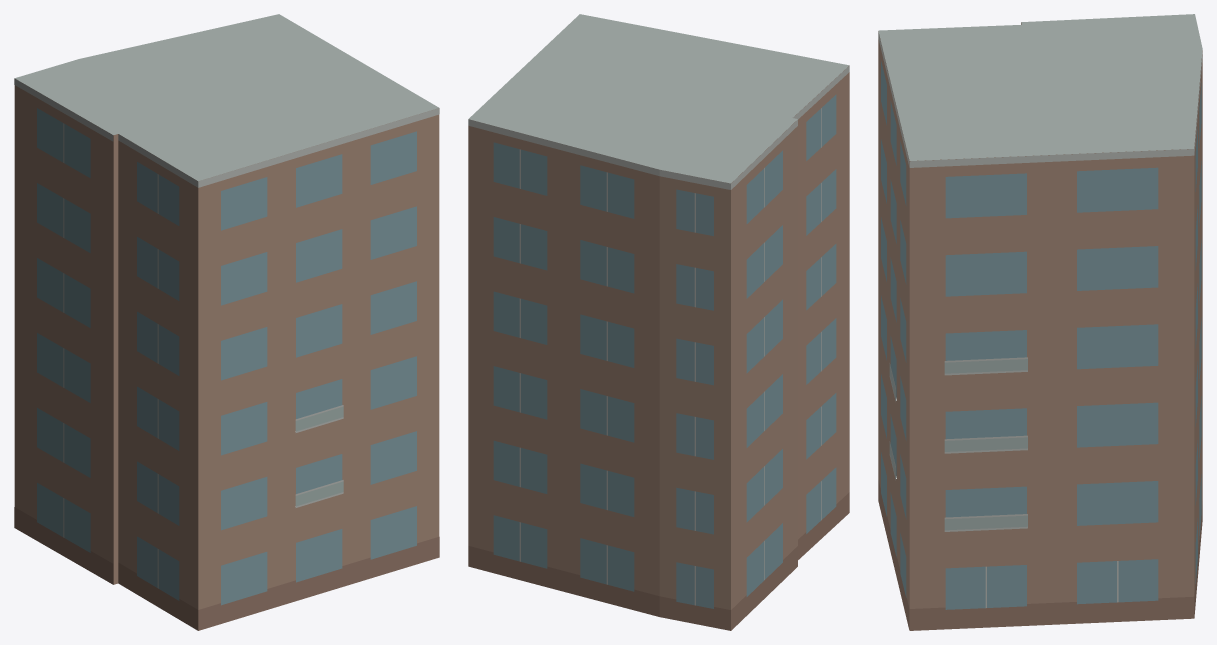
Rendered from survey-upis-32760143.glb.
The picture shows the model from 3 angles, left to right: view 1: azimuth 30°, elevation 25°; view 2: azimuth 150°, elevation 25°; view 3: azimuth 270°, elevation 25°; orthographic projection. The views are drawn at different scales.
Parts seen in each view (by area): view 1: survey-upis-32760143.tmp; view 2: survey-upis-32760143.tmp; view 3: survey-upis-32760143.tmp.
Boxes of the visible parts, x1,y1,x2,y2 form: survey-upis-32760143.tmp: (14,14,439,630); survey-upis-32760143.tmp: (468,14,849,630); survey-upis-32760143.tmp: (878,14,1202,630).
Bounding box in the file's own units: 11.16 × 16.6 × 10.4.
